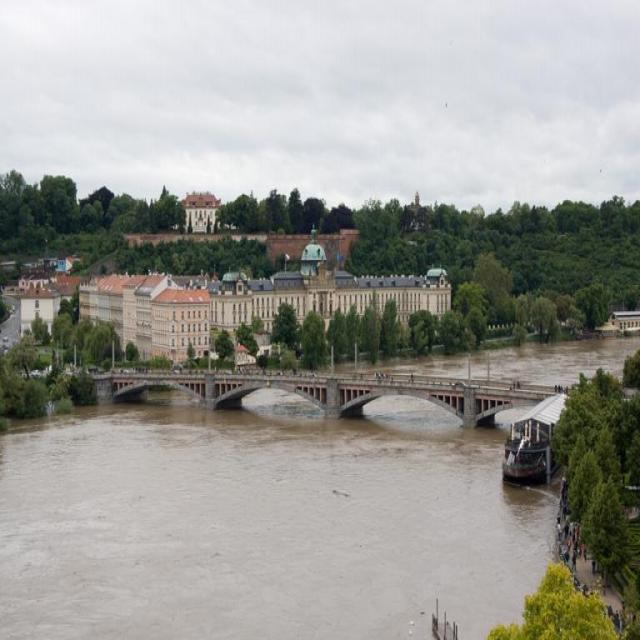flood: (0, 376, 561, 640)
